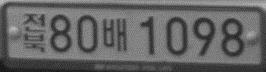0: (165, 16, 188, 56), (76, 14, 99, 53)
1: (137, 14, 156, 56)
8: (220, 17, 244, 57), (49, 13, 72, 53)
9: (191, 16, 216, 56)
배: (101, 16, 128, 53)
전북_V: (20, 11, 46, 53)
